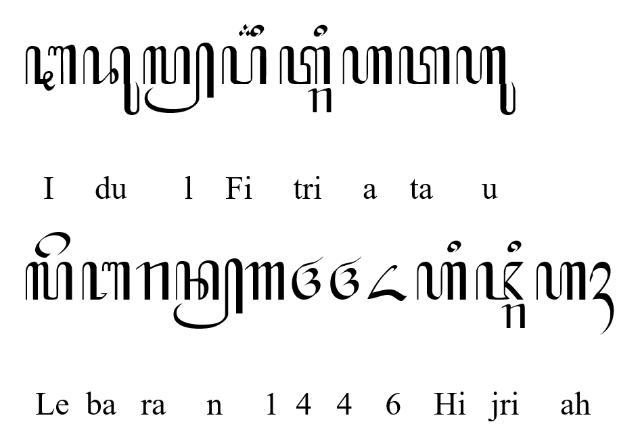-l: (143, 42, 215, 114)
-n: (172, 258, 244, 330)
4: (330, 255, 362, 301), (292, 256, 324, 300)
6: (368, 264, 407, 302)
I: (24, 44, 78, 91)
_h1: (589, 262, 615, 336)
alt: (239, 22, 253, 36)
b: (81, 260, 131, 300)
du: (82, 44, 140, 116)
e: (34, 231, 72, 257)
g: (246, 262, 284, 300)
h: (415, 260, 467, 300), (536, 262, 588, 300), (342, 46, 392, 84)
hu: (456, 44, 516, 116)
i: (312, 23, 328, 37), (507, 239, 523, 253), (447, 239, 461, 252), (252, 22, 264, 36)
j: (474, 260, 524, 300)
l: (25, 262, 73, 302)
p: (220, 45, 268, 85)
r: (136, 260, 170, 300), (308, 87, 332, 113), (501, 303, 525, 329)
t: (399, 45, 451, 85), (279, 46, 331, 84)
